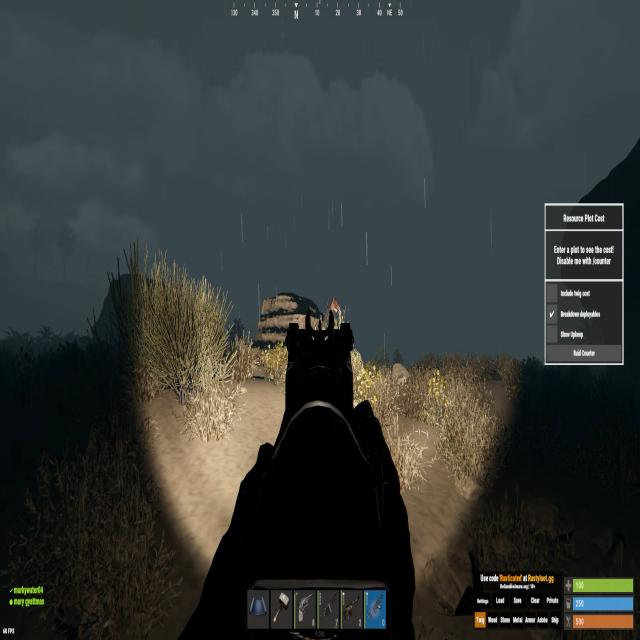Player: (322, 292, 343, 331)
